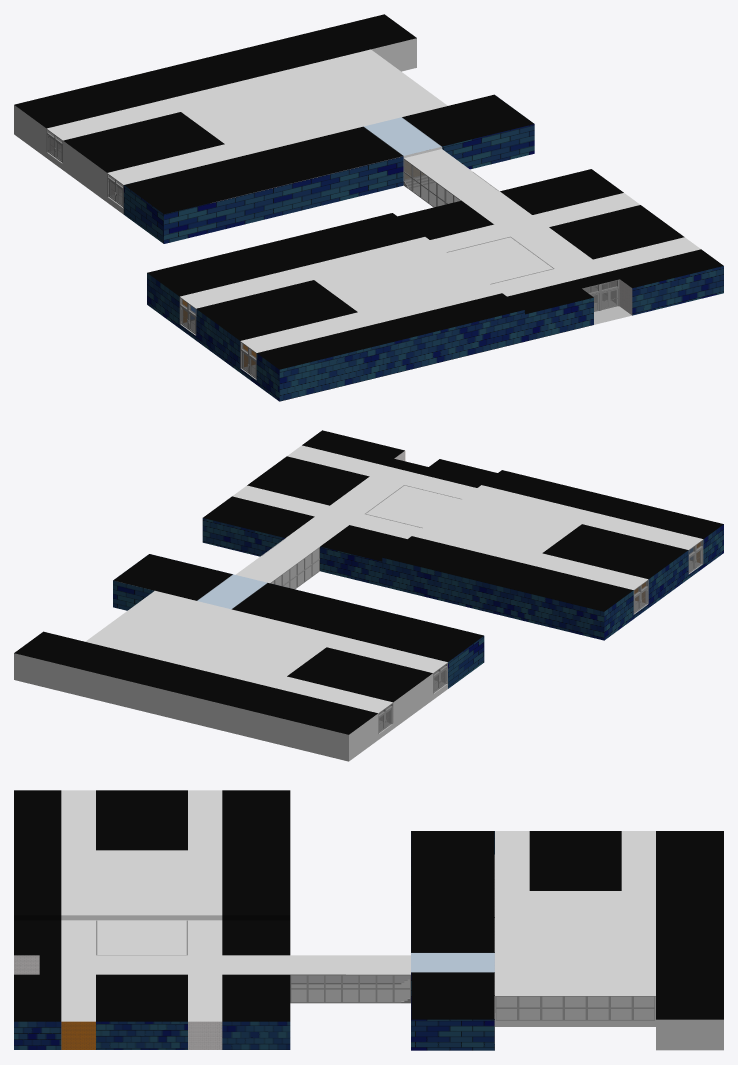
Rendered from school_modify_addedd1.gltf.
The picture shows the model from 3 angles, top to bottom: view 1: azimuth 30°, elevation 25°; view 2: azimuth 150°, elevation 25°; view 3: azimuth 270°, elevation 25°; orthographic projection. The views are drawn at different scales.
Visible parts, largest first — view 1: school, school2, school.middle; view 2: school, school2, school.middle; view 3: school, school2, school.middle.
Boxes of the visible parts, x1=… form: school: x1=147, y1=147, x2=723, y2=401; school2: x1=14, y1=14, x2=447, y2=214; school.middle: x1=123, y1=94, x2=534, y2=243; school: x1=202, y1=430, x2=723, y2=640; school2: x1=14, y1=591, x2=447, y2=761; school.middle: x1=113, y1=554, x2=484, y2=688; school: x1=14, y1=790, x2=410, y2=1049; school2: x1=495, y1=831, x2=723, y2=1050; school.middle: x1=411, y1=831, x2=494, y2=1050.
Size of the model in its own units: 11.51 by 0.7889 by 15.22.
